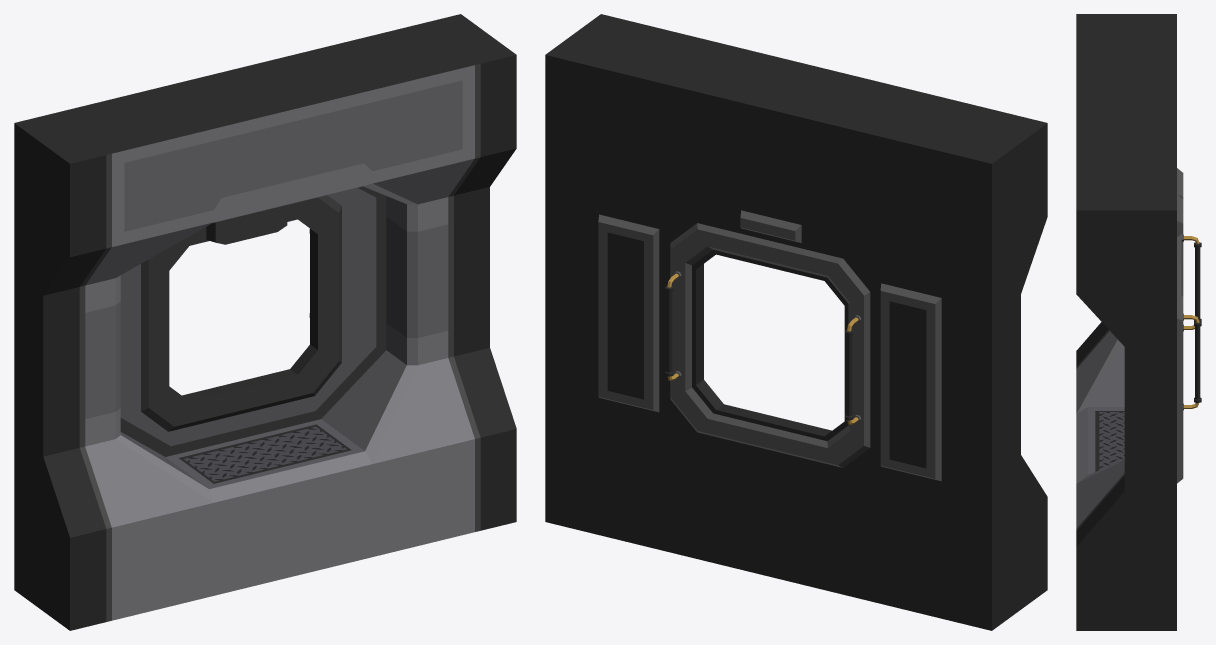
Rendered from SM_Bld_Wall_EscPod_Hatch_01.glb.
The picture shows the model from 3 angles, left to right: view 1: azimuth 30°, elevation 25°; view 2: azimuth 150°, elevation 25°; view 3: azimuth 270°, elevation 25°; orthographic projection. The views are drawn at different scales.
Visible parts, largest first — view 1: SM_Bld_Wall_EscPod_Hatch_01; view 2: SM_Bld_Wall_EscPod_Hatch_01; view 3: SM_Bld_Wall_EscPod_Hatch_01.
Boxes of the visible parts, x1=… form: SM_Bld_Wall_EscPod_Hatch_01: x1=14, y1=14, x2=516, y2=630; SM_Bld_Wall_EscPod_Hatch_01: x1=545, y1=14, x2=1047, y2=630; SM_Bld_Wall_EscPod_Hatch_01: x1=1076, y1=14, x2=1201, y2=630.
Bounding box in the file's own units: 5 × 5 × 1.35.
Materials: 1 (1 with a texture image).
